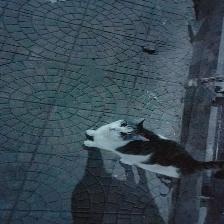kedo: (85, 117, 224, 178)
